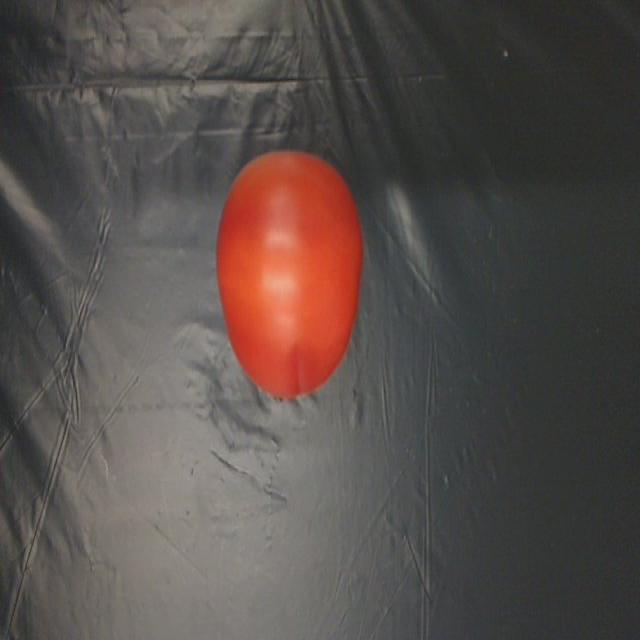sari: (191, 130, 366, 417)
